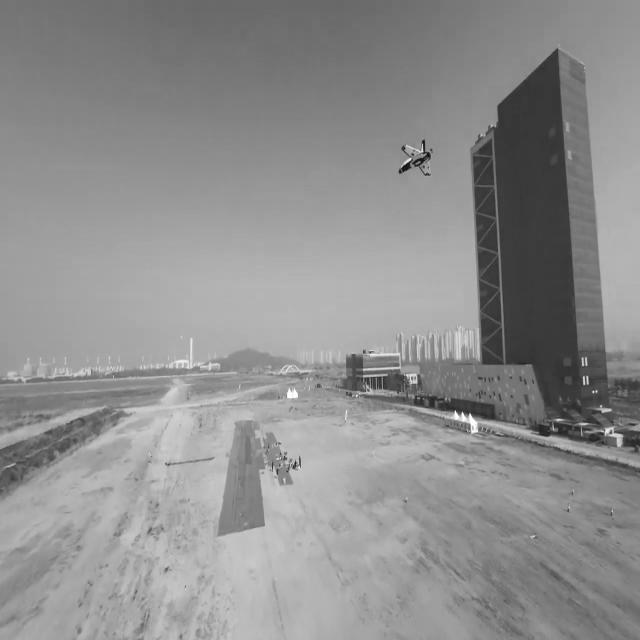iha: (395, 134, 438, 182)
